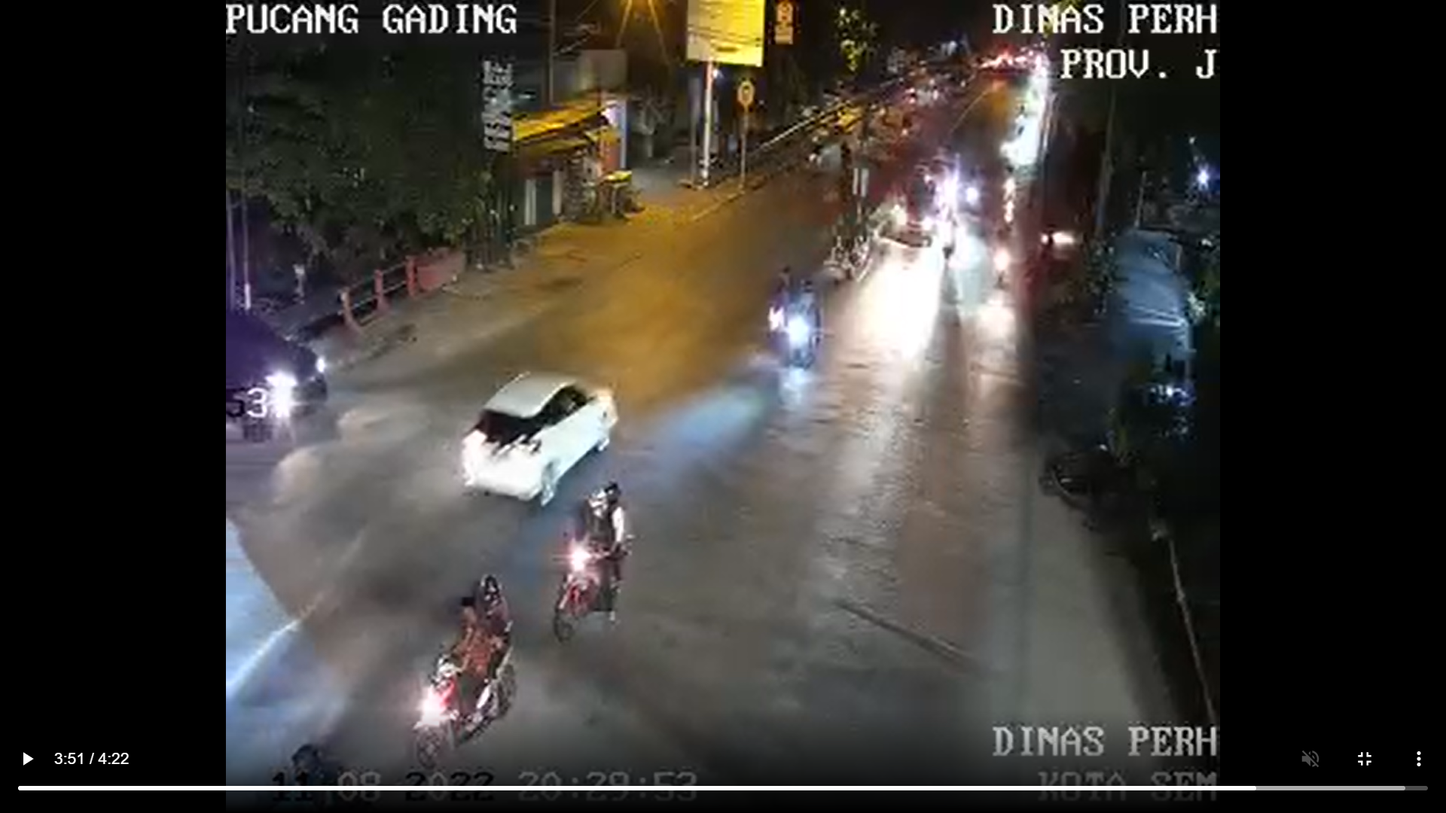with_helmet: (556, 466, 637, 660)
without_helmet: (394, 565, 527, 761)
